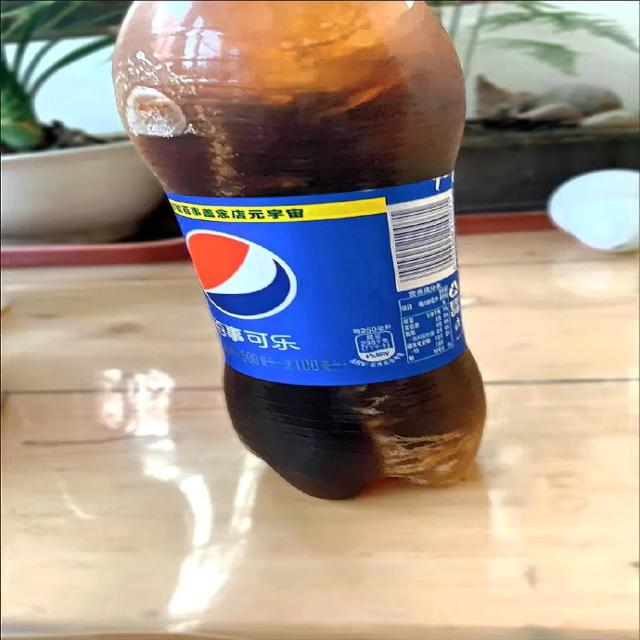bottle: (108, 1, 490, 503)
